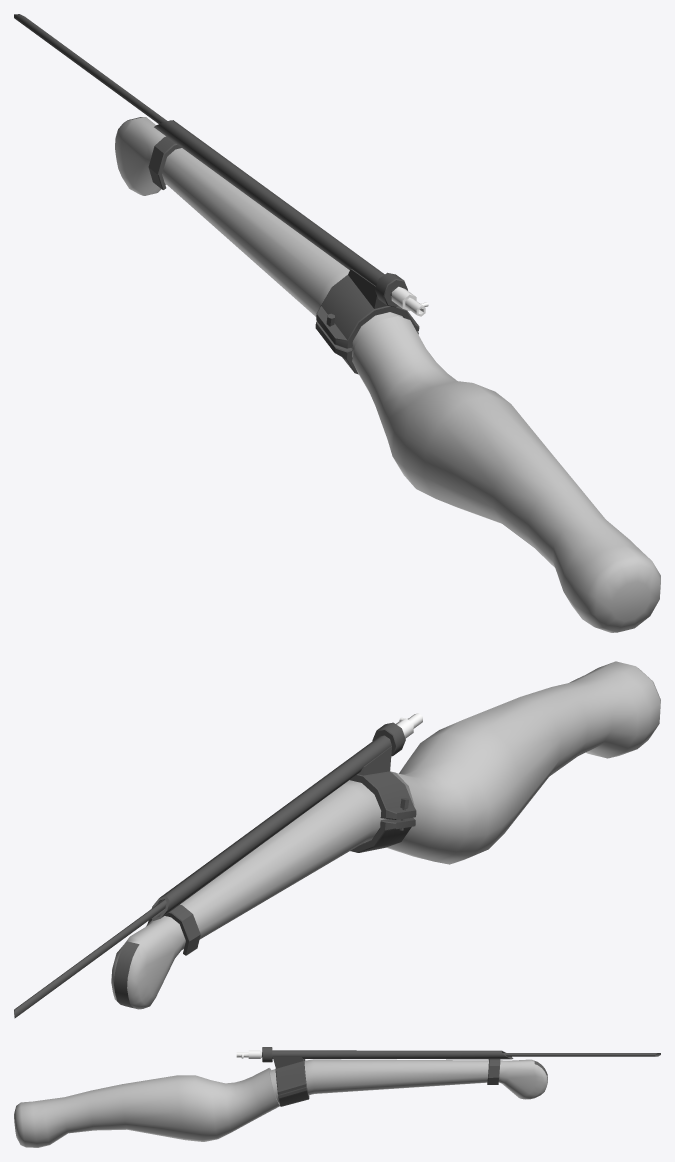
Rendered from uzi-tools.FBX.
3 views of the same model, one above another, from view 1: azimuth 30°, elevation 25°; view 2: azimuth 150°, elevation 25°; view 3: azimuth 270°, elevation 25° (orthographic). The views are drawn at different scales.
Visible parts, largest first — view 1: uzi-tool, uzi-adapter, uzi-igla; view 2: uzi-tool, uzi-adapter, uzi-igla; view 3: uzi-tool, uzi-adapter, uzi-igla.
Part boxes in pixels (bbox=[...]): uzi-tool: bbox=[115, 117, 660, 632]; uzi-adapter: bbox=[148, 120, 419, 374]; uzi-igla: bbox=[14, 14, 428, 316]; uzi-tool: bbox=[111, 661, 660, 1009]; uzi-adapter: bbox=[147, 722, 416, 955]; uzi-igla: bbox=[14, 713, 422, 1018]; uzi-tool: bbox=[14, 1059, 547, 1147]; uzi-adapter: bbox=[262, 1047, 513, 1106]; uzi-igla: bbox=[236, 1050, 660, 1058].
Bounding box in the file's own units: 0.0333 × 0.0592 × 0.3529.
